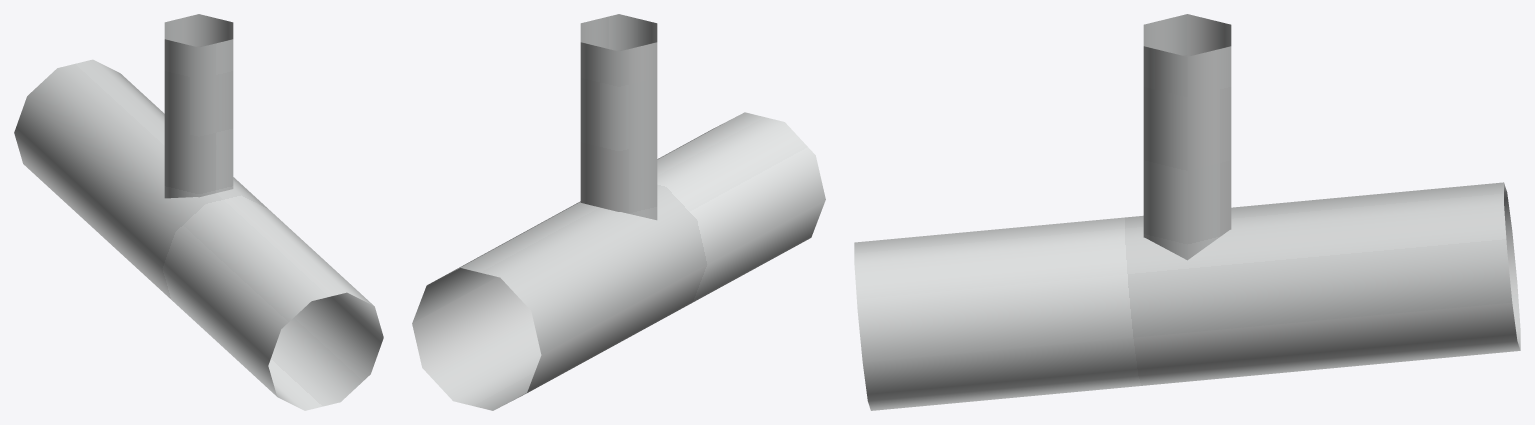
File: trusssignalarm_level12_c4.obj
The picture shows the model from 3 angles, left to right: view 1: azimuth 30°, elevation 25°; view 2: azimuth 150°, elevation 25°; view 3: azimuth 270°, elevation 25°; orthographic projection. The views are drawn at different scales.
Visible parts, largest first — view 1: trusssignalarm_level12_c4; view 2: trusssignalarm_level12_c4; view 3: trusssignalarm_level12_c4.
Part boxes in pixels (<box>): trusssignalarm_level12_c4: <box>14,14,383,410</box>; trusssignalarm_level12_c4: <box>412,14,825,410</box>; trusssignalarm_level12_c4: <box>854,14,1520,410</box>.
Size of the model in its own units: 0.2625 by 0.619 by 1.03.
